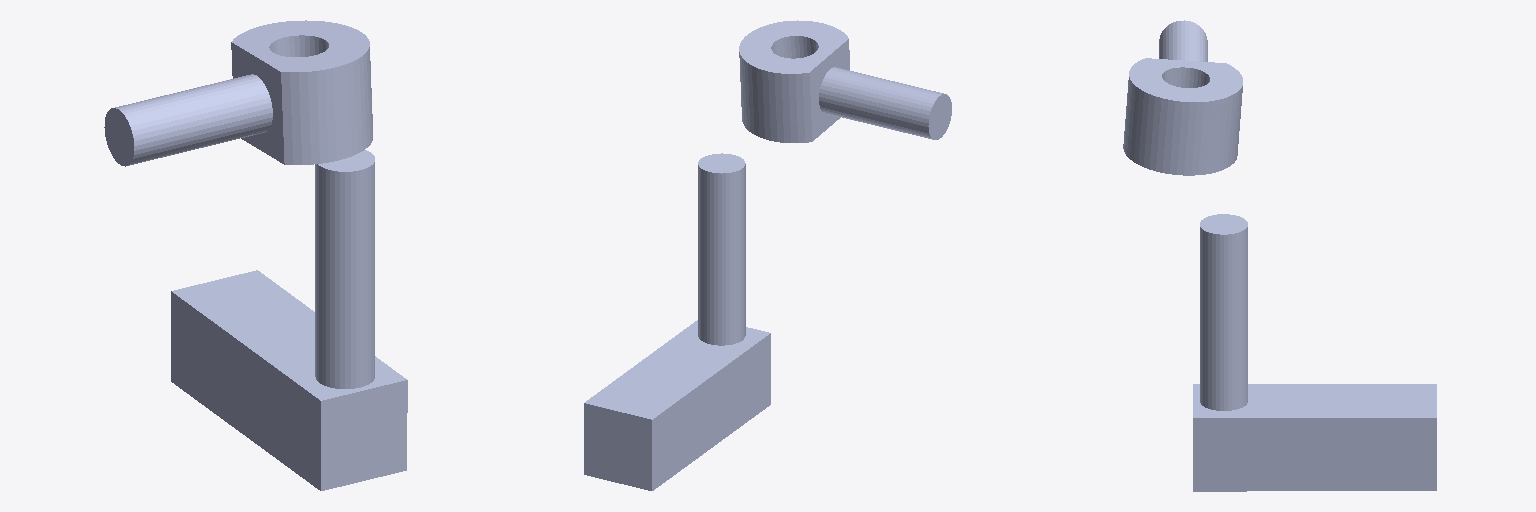
URDF robot description (atom_discription):
<?xml version="1.0" encoding="utf-8"?>
<!-- This URDF was automatically created by SolidWorks to URDF Exporter! Originally created by [author] ([email redacted]) 
     Commit Version: 1.5.1-0-g916b5db  Build Version: 1.5.7152.31018
     For more information, please see http://wiki.ros.org/sw_urdf_exporter -->
<robot
  name="atom_discription">
  <link name = "world"/>

  <joint name ="joint" type="fixed">
    <parent link="world"/>
    <child link="base_link"/>
    </joint>
    
  <link
    name="base_link">
    <inertial>
      <origin
        xyz="-0.01568 -0.025 0.010344"
        rpy="0 0 0" />
      <mass
        value="0.45982" />
      <inertia
        ixx="0.0010083"
        ixy="8.0358E-21"
        ixz="0.00032972"
        iyy="0.0016051"
        iyz="-6.0655E-20"
        izz="0.0007626" />
    </inertial>
    <visual>
      <origin
        xyz="0 0 0"
        rpy="3.142 0 0" />
      <geometry>
        <mesh
          filename="package://atom_discription/meshes/base_link.STL" />
      </geometry>
      <material
        name="">
        <color
          rgba="0.79216 0.81961 0.93333 1" />
      </material>
    </visual>
    <collision>
      <origin
        xyz="0 0 0"
        rpy="0 0 0" />
      <geometry>
        <mesh
          filename="package://atom_discription/meshes/base_link.STL" />
      </geometry>
    </collision>
  </link>
  <link
    name="link1">
    <inertial>
      <origin
        xyz="-0.0023923 -0.015614 0.025"
        rpy="0 0 0" />
      <mass
        value="0.19972" />
      <inertia
        ixx="0.00029162"
        ixy="-3.0395E-05"
        ixz="1.249E-20"
        iyy="9.7898E-05"
        iyz="2.6007E-20"
        izz="0.00032351" />
    </inertial>
    <visual>
      <origin
        xyz="0 0 0"
        rpy="0 0 1.5" />
      <geometry>
        <mesh
          filename="package://atom_discription/meshes/link1.STL" />
      </geometry>
      <material
        name="">
        <color
          rgba="0.79216 0.81961 0.93333 1" />
      </material>
    </visual>
    <collision>
      <origin
        xyz="0 0 0"
        rpy="0 0 0" />
      <geometry>
        <mesh
          filename="package://atom_discription/meshes/link1.STL" />
      </geometry>
    </collision>
  </link>
  <joint
    name="joint1"
    type="revolute">
    <parent link="base_link" />
    <child link="link1" />
    <origin
      xyz="-0.145 -0.025 0.0560748943460099"
      rpy="1.5707963267949 0 1.5707963267949" />
    <axis
      xyz="0 0 1" />
    <limit
      lower="-6.282"
      upper="6.282"
      effort="100"
      velocity="1" />
  </joint>
  <!-- <link
    name="link2">
    <inertial>
      <origin
        xyz="-0.02953 -0.06079 0.025"
        rpy="0 0 0" />
      <mass
        value="0.49696" />
      <inertia
        ixx="0.0014939"
        ixy="-0.00060874"
        ixz="1.3331E-19"
        iyy="0.00053645"
        iyz="4.3368E-19"
        izz="0.0018168" />
    </inertial>
    <visual>
      <origin
        xyz="0 0 0"
        rpy="0 0 0" />
      <geometry>
        <mesh
          filename="package://atom_discription/meshes/link2.STL" />
      </geometry>
      <material
        name="">
        <color
          rgba="0.79216 0.81961 0.93333 1" />
      </material>
    </visual>
    <collision>
      <origin
        xyz="0 0 0"
        rpy="0 0 0" />
      <geometry>
        <mesh
          filename="package://atom_discription/meshes/link2.STL" />
      </geometry>
    </collision>
  </link>
  <joint
    name="joint2"
    type="revolute">
    <origin
      xyz="-0.0159020474196779 -0.103788847608316 0.025"
      rpy="1.41876324910506 -1.5707963267949 0" />
    <parent
      link="link1" />
    <child
      link="link2" />
    <axis
      xyz="0 0 1" />
    <limit
      lower="-6.282"
      upper="6.282"
      effort="100"
      velocity="1" />
  </joint>
  <link
    name="link3">
    <inertial>
      <origin
        xyz="2.7756E-17 0 -0.052549"
        rpy="0 0 0" />
      <mass
        value="0.34603" />
      <inertia
        ixx="0.00055522"
        ixy="0.00020044"
        ixz="-2.9561E-19"
        iyy="0.00026944"
        iyz="5.8953E-19"
        izz="0.00064824" />
    </inertial>
    <visual>
      <origin
        xyz="0 0 0"
        rpy="0 0 0" />
      <geometry>
        <mesh
          filename="package://atom_discription/meshes/link3.STL" />
      </geometry>
      <material
        name="">
        <color
          rgba="0.79216 0.81961 0.93333 1" />
      </material>
    </visual>
    <collision>
      <origin
        xyz="0 0 0"
        rpy="0 0 0" />
      <geometry>
        <mesh
          filename="package://atom_discription/meshes/link3.STL" />
      </geometry>
    </collision>
  </link>
  <joint
    name="joint3"
    type="revolute">
    <origin
      xyz="-0.0633572565658469 -0.130425680141794 0.025"
      rpy="1.11859506665141 1.5707963267949 0" />
    <parent
      link="link2" />
    <child
      link="link3" />
    <axis
      xyz="0 0 1" />
    <limit
      lower="-6.282"
      upper="6.282"
      effort="40"
      velocity="1" />
  </joint>
  <link
    name="link4">
    <inertial>
      <origin
        xyz="-0.08891 -0.11217 0.1"
        rpy="0 0 0" />
      <mass
        value="2.6776" />
      <inertia
        ixx="0.016579"
        ixy="-0.0060285"
        ixz="-6.5052E-18"
        iyy="0.013752"
        iyz="-3.5237E-19"
        izz="0.015281" />
    </inertial>
    <visual>
      <origin
        xyz="0 0 0"
        rpy="0 0 0" />
      <geometry>
        <mesh
          filename="package://atom_discription/meshes/link4.STL" />
      </geometry>
      <material
        name="">
        <color
          rgba="0.79216 0.81961 0.93333 1" />
      </material>
    </visual>
    <collision>
      <origin
        xyz="0 0 0"
        rpy="0 0 0" />
      <geometry>
        <mesh
          filename="package://atom_discription/meshes/link4.STL" />
      </geometry>
    </collision>
  </link>
  <joint
    name="joint4"
    type="revolute">
    <origin
      xyz="-0.045799573356041 0.0888954390303834 -0.0550000000000005"
      rpy="1.0950570748123 -1.5707963267949 0" />
    <parent
      link="link3" />
    <child
      link="link4" />
    <axis
      xyz="0 0 1" />
    <limit
      lower="-6.282"
      upper="6.282"
      effort="40"
      velocity="1" />
  </joint> -->
</robot>

--- Facts derived from the render (not from the file) ---
Views: 3 orthographic renders of the robot side by side, from view 1: azimuth 30°, elevation 25°; view 2: azimuth 150°, elevation 25°; view 3: azimuth 270°, elevation 25°.
Robot: atom_discription — 3 links, 2 joints (1 revolute, 1 fixed); root link world; default pose: every joint at zero.
Visible links, largest first — view 1: base_link, link1; view 2: base_link, link1; view 3: base_link, link1.
Boxes of the visible links, x1,y1,x2,y2 form: base_link: [171, 150, 407, 490]; link1: [104, 20, 372, 166]; base_link: [584, 153, 770, 490]; link1: [739, 20, 951, 142]; base_link: [1193, 214, 1436, 491]; link1: [1123, 20, 1242, 175].
Size in the robot's own frame: 0.17 by 0.1932 by 0.2535 metres.
Meshes: 2 distinct files referenced, 2 mesh visuals loaded (2 binary STL).